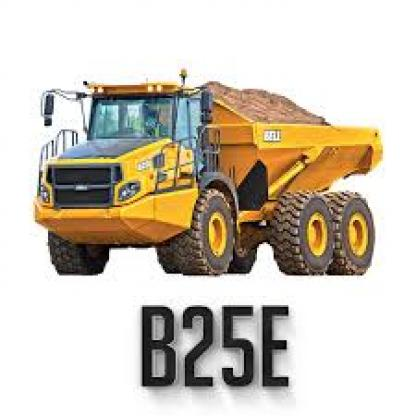dump_truck: (30, 54, 382, 294)
